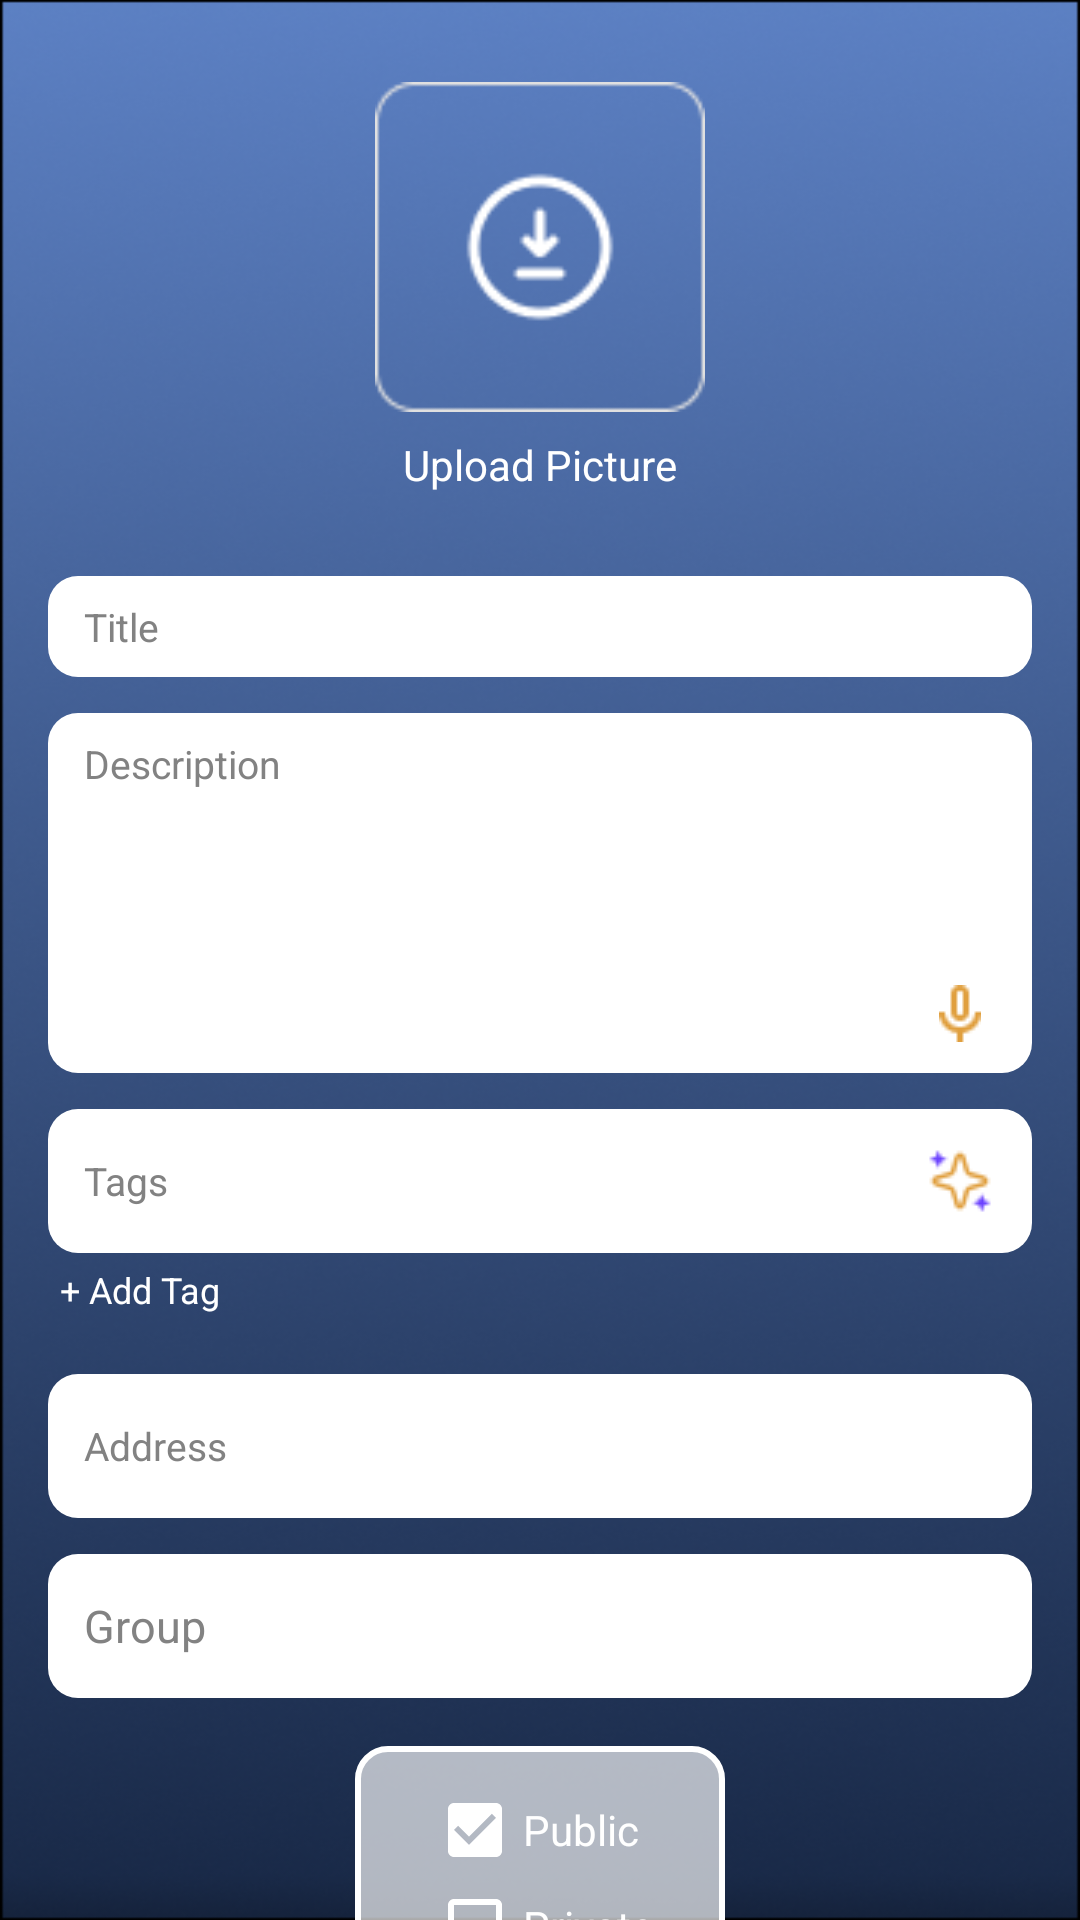

Screen size 1080px×1920px. Icon name, then its box in pixels as (x1, y1, x2, y2):
ai star: (929, 1150, 991, 1212)
mic: (939, 985, 981, 1042)
